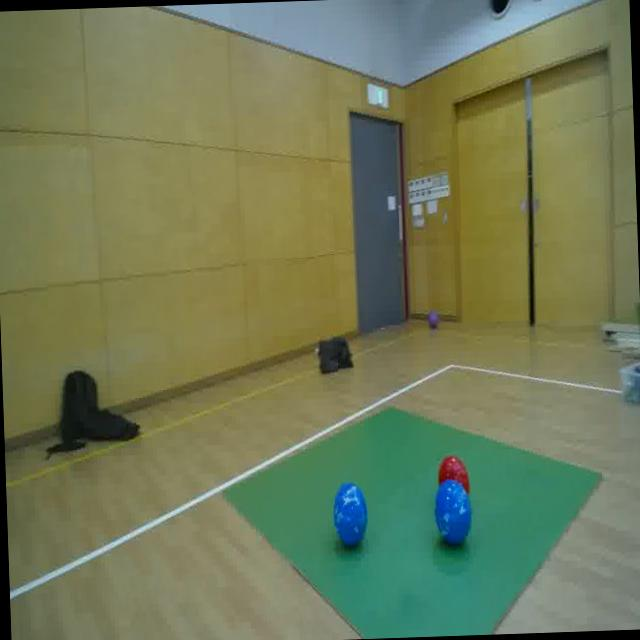blue_ball: (432, 478, 472, 548), (331, 481, 368, 548)
purple_ball: (426, 310, 441, 328)
red_ball: (433, 452, 472, 500)
